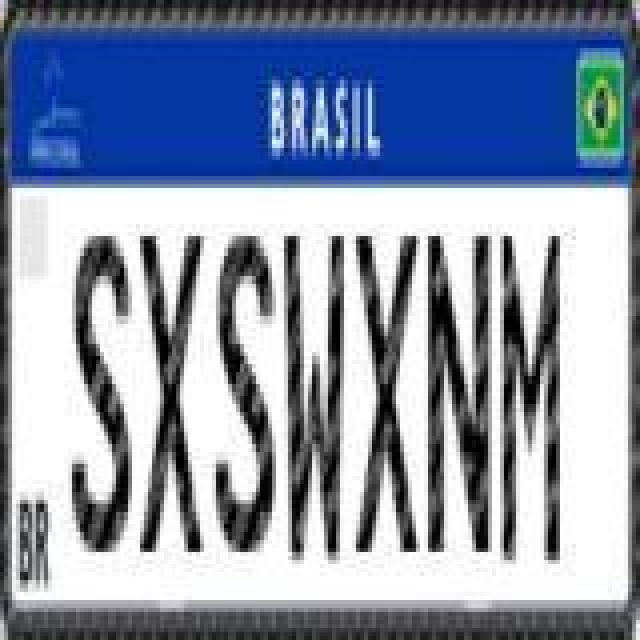M: (498, 230, 558, 570)
N: (426, 228, 494, 556)
S: (216, 226, 280, 558), (72, 228, 136, 556)
W: (280, 230, 344, 570)
X: (140, 228, 204, 556), (356, 228, 420, 556)
